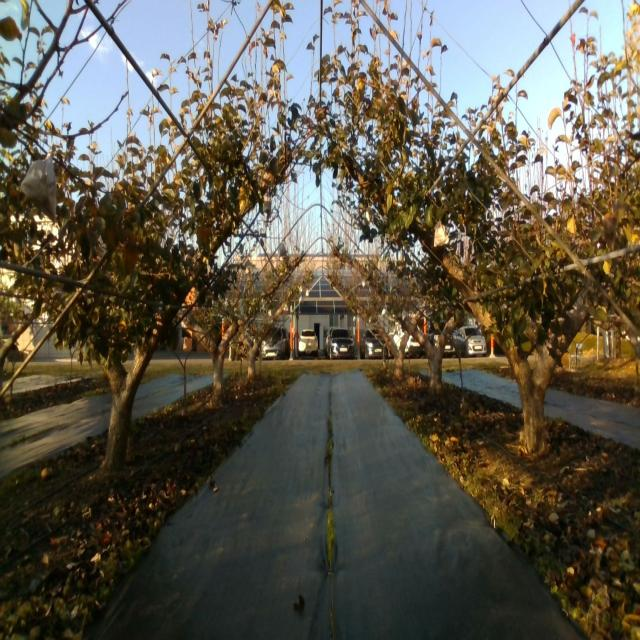pearbags: (20, 153, 57, 224), (433, 219, 449, 247), (262, 193, 272, 217)
